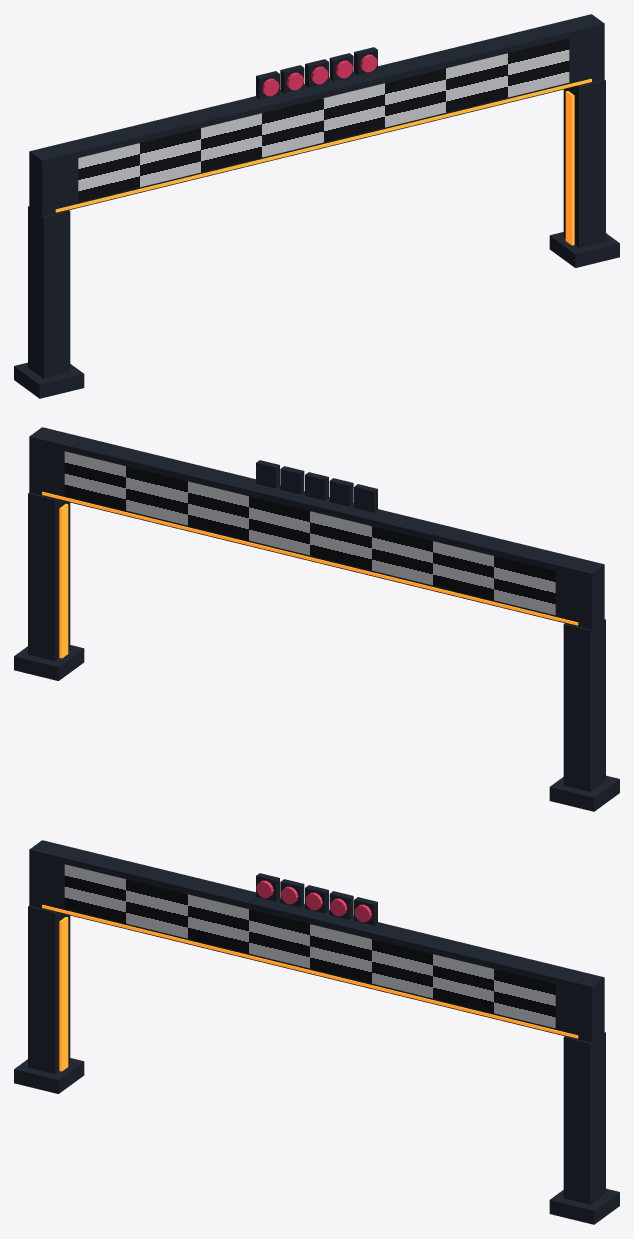
Rendered from start_gantry.glb.
3 renders of one model, top to bottom at view 1: azimuth 30°, elevation 25°; view 2: azimuth 150°, elevation 25°; view 3: azimuth 330°, elevation 25°, orthographic.
Parts seen in each view (by area): view 1: gate, lamp_2, lamp_4, lamp_3, lamp_5, lamp_1; view 2: gate, lamp_2, lamp_4, lamp_3, lamp_5, lamp_1; view 3: gate, lamp_4, lamp_2, lamp_1, lamp_3, lamp_5.
Boxes of the visible parts, <box> form: gate: <box>14,14,619,398</box>; lamp_2: <box>280,65,304,93</box>; lamp_4: <box>329,53,353,81</box>; lamp_3: <box>305,59,328,87</box>; lamp_5: <box>354,47,377,75</box>; lamp_1: <box>256,71,279,99</box>; gate: <box>14,427,619,811</box>; lamp_2: <box>329,478,353,506</box>; lamp_4: <box>280,466,304,494</box>; lamp_3: <box>305,472,328,500</box>; lamp_5: <box>256,460,279,488</box>; lamp_1: <box>354,484,377,512</box>; gate: <box>14,840,619,1224</box>; lamp_4: <box>329,891,353,919</box>; lamp_2: <box>280,879,304,907</box>; lamp_1: <box>256,873,279,901</box>; lamp_3: <box>305,885,328,913</box>; lamp_5: <box>354,897,377,925</box>.
Size of the model in its own units: 26 by 10.95 by 2.
Materials: 8 (1 with a texture image).
